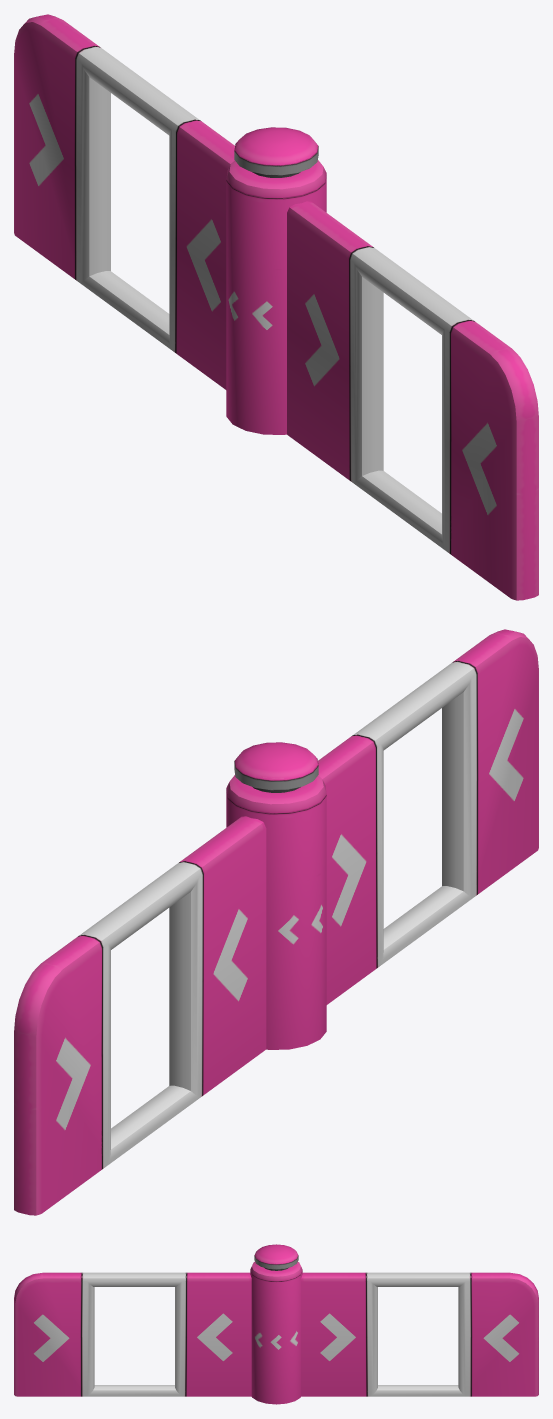
The model's file is OBS0110179.fbx.
3 renders of one model, top to bottom at view 1: azimuth 30°, elevation 25°; view 2: azimuth 150°, elevation 25°; view 3: azimuth 270°, elevation 25°, orthographic. The views are drawn at different scales.
Visible parts, largest first — view 1: smOBS0110179; view 2: smOBS0110179; view 3: smOBS0110179.
Boxes of the visible parts, x1,y1,x2,y2 form: smOBS0110179: [14, 14, 538, 600]; smOBS0110179: [14, 629, 538, 1215]; smOBS0110179: [14, 1244, 538, 1404].
Bounding box in the file's own units: 80.56 × 245 × 805.
1 material, 1 textured.
